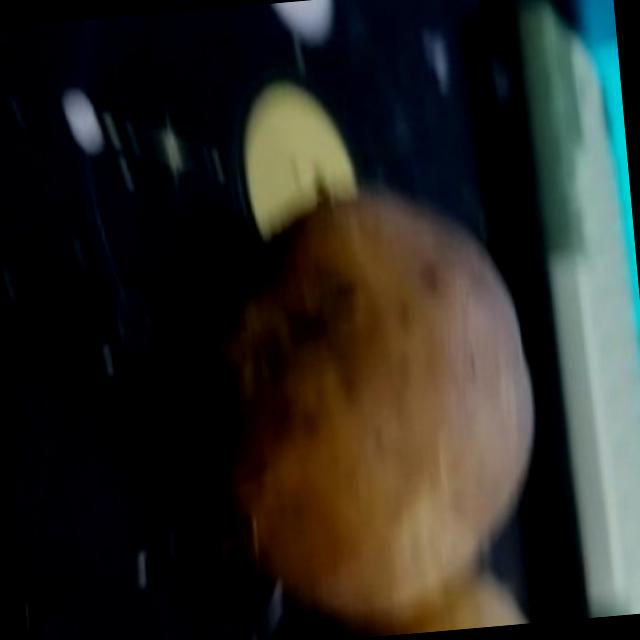strawberry: (186, 179, 552, 632)
